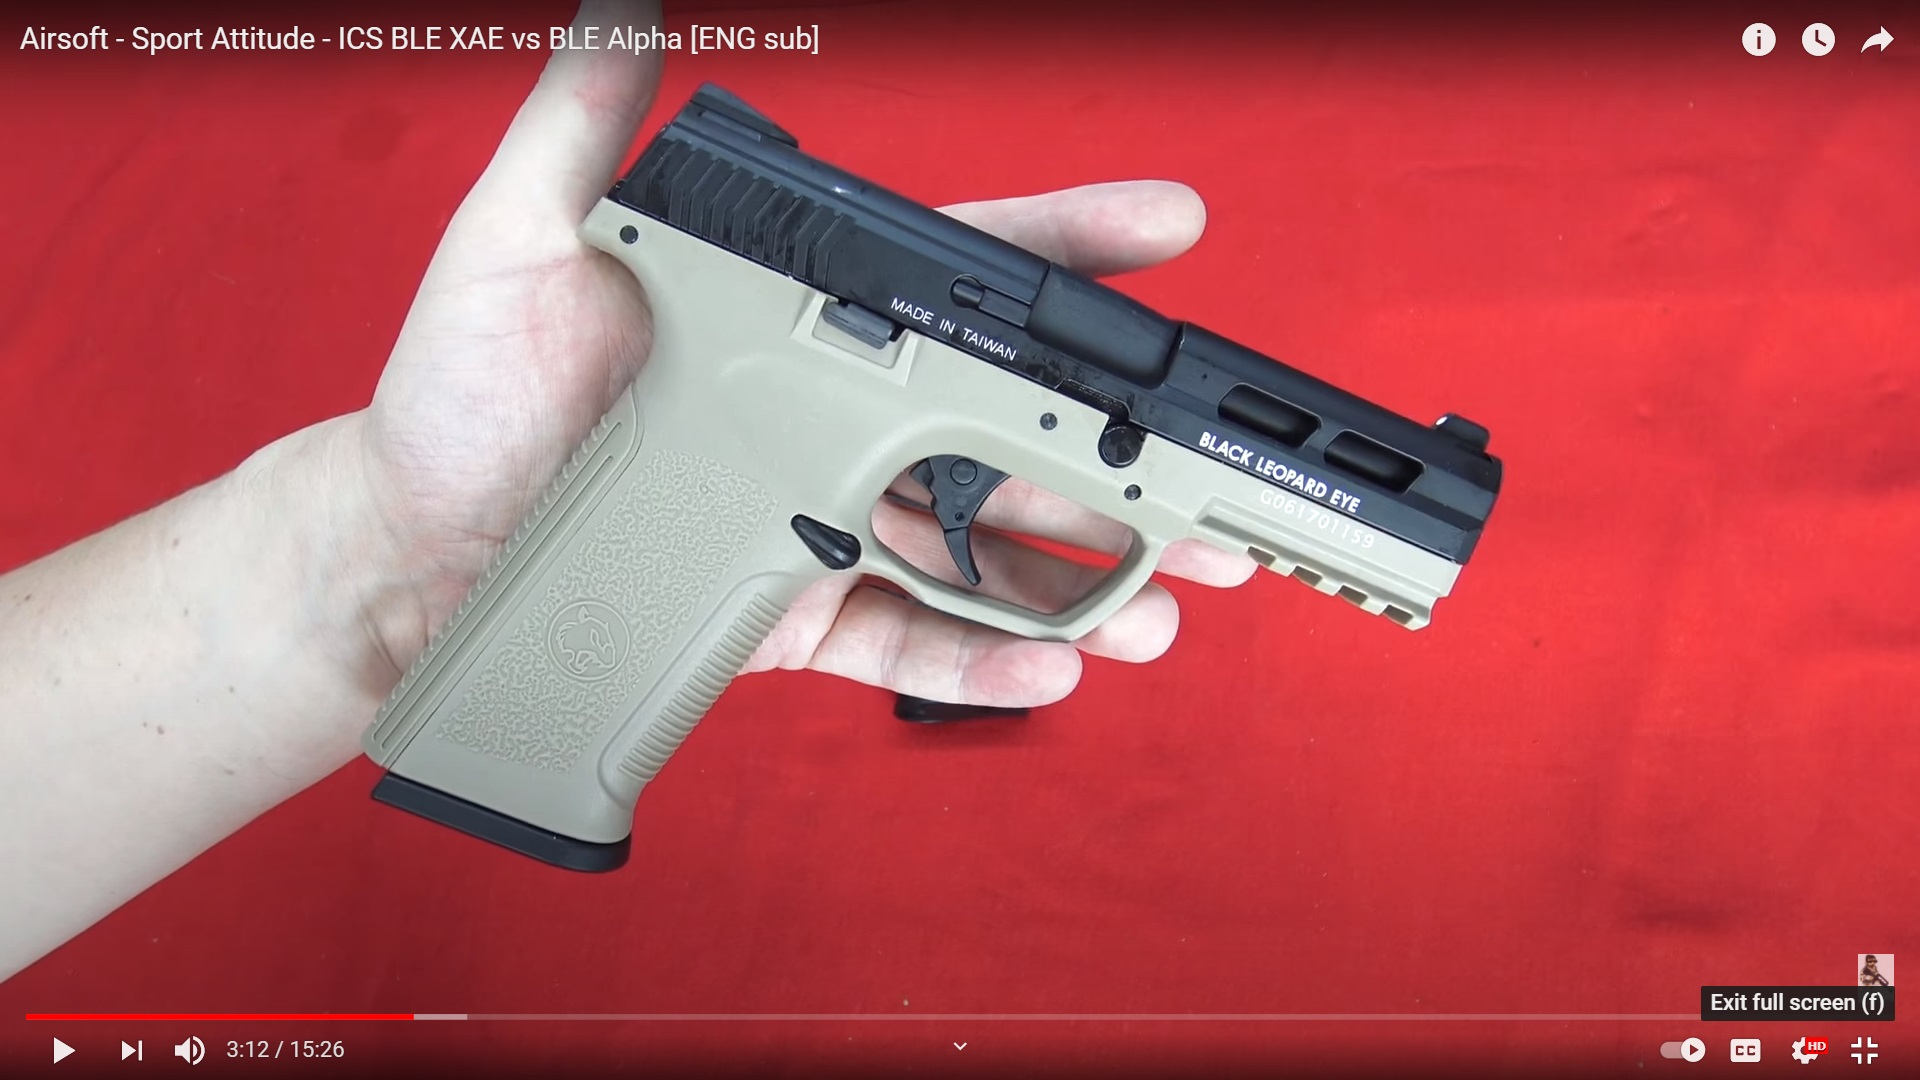asg_ics_ble_xae: (363, 80, 1513, 851)
